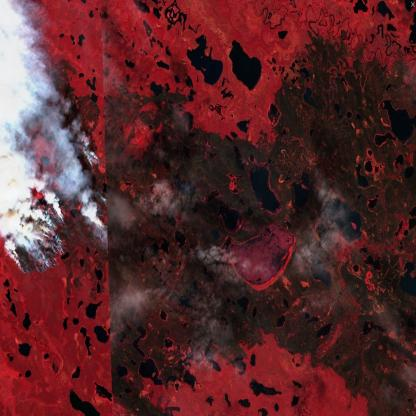fire: (5, 136, 114, 286)
